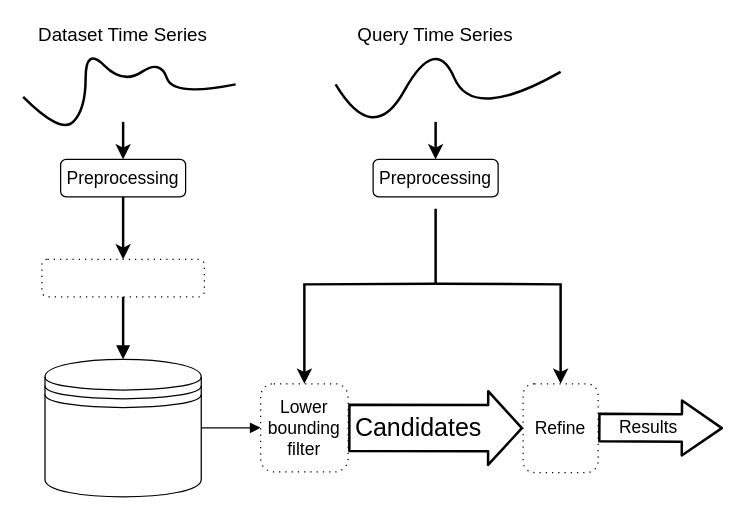
The diagram is 744 pixels wide and 519 high, and some of its shapes have lost their labels. The shapes that lost their labels are listed below. From the top down, each one's box as (x1, y1, x2, y2) in pixels, then its label:
(41, 258, 204, 297): Index filter
(44, 358, 201, 497): Data base
